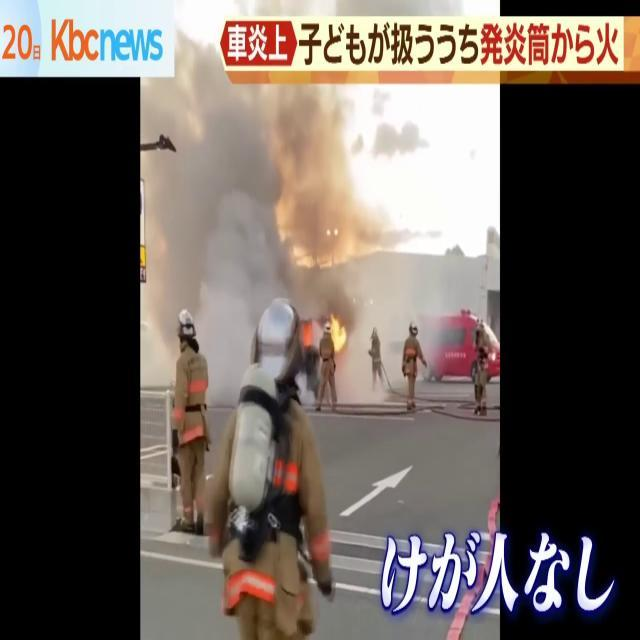Fire: (324, 308, 351, 360)
Smoke: (142, 35, 379, 352)
